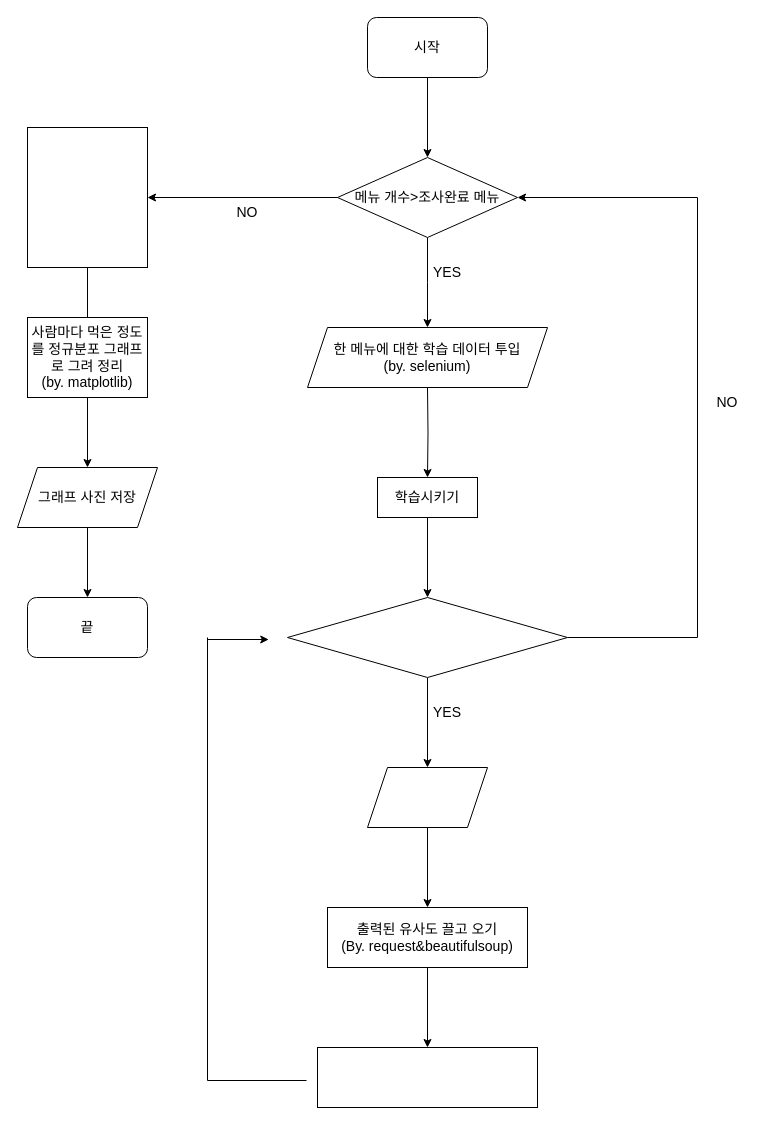
Image size: 775x1125. Some labels were removed from this diagram. Here are the shapes that lost their labels. From the top down, the centre of each, then its label:
the point at 87,197: 리스트 자료 정보화 (유사도별로 독립된 숫자가 되어있는 percentage를 하나의 percentage로 정리) (numpy 이용)
the point at 427,637: 사진의 총 개수>조사 완료된 사진의 수
the point at 427,797: 사진 투입 (by. selenium)
the point at 427,1077: 출력된 유사도를 메뉴별 리스트에 저장
